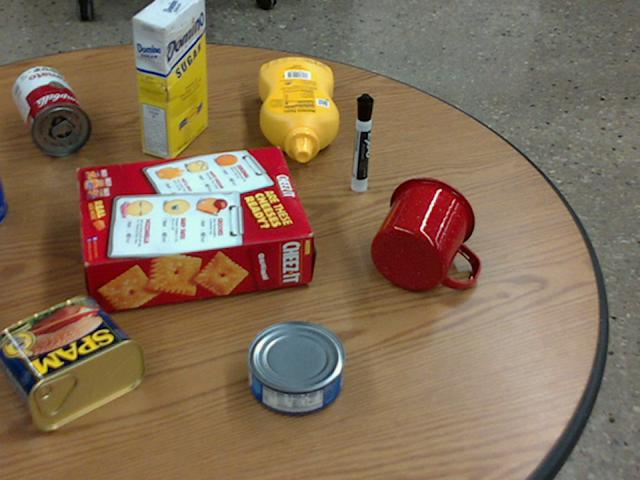cracker_box: (80, 148, 313, 313)
large_marker: (352, 93, 373, 190)
master_chef_can: (0, 175, 7, 223)
mug: (372, 176, 480, 290)
mustard_bottle: (258, 57, 338, 161)
potted_meat_can: (0, 294, 143, 430)
sugar_box: (133, 0, 207, 159)
tomato_soup_can: (13, 66, 91, 155)
tuna_fish_can: (246, 320, 344, 415)
